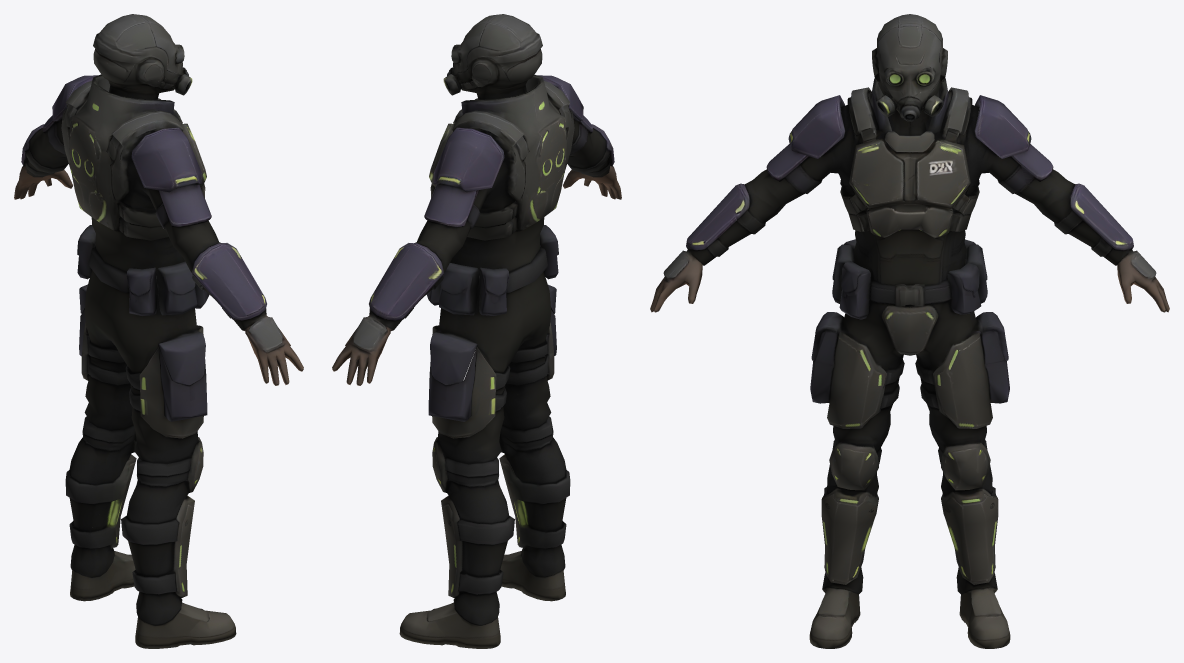
Rendered from warden_l04_rosebud_tripo.glb.
3 renders of one model, left to right at view 1: azimuth 30°, elevation 25°; view 2: azimuth 150°, elevation 25°; view 3: azimuth 270°, elevation 25°, orthographic.
Visible parts, largest first — view 1: tripo_node_4c27a234-d1fd-4464-a30d-047f4a4d124d; view 2: tripo_node_4c27a234-d1fd-4464-a30d-047f4a4d124d; view 3: tripo_node_4c27a234-d1fd-4464-a30d-047f4a4d124d.
Boxes of the visible parts, <box> form: tripo_node_4c27a234-d1fd-4464-a30d-047f4a4d124d: <box>14,14,303,648</box>; tripo_node_4c27a234-d1fd-4464-a30d-047f4a4d124d: <box>332,14,621,648</box>; tripo_node_4c27a234-d1fd-4464-a30d-047f4a4d124d: <box>650,14,1169,648</box>.
Bounding box in the file's own units: 0.1968 × 0.9995 × 0.7847.
Materials: 1 (1 with a texture image).
